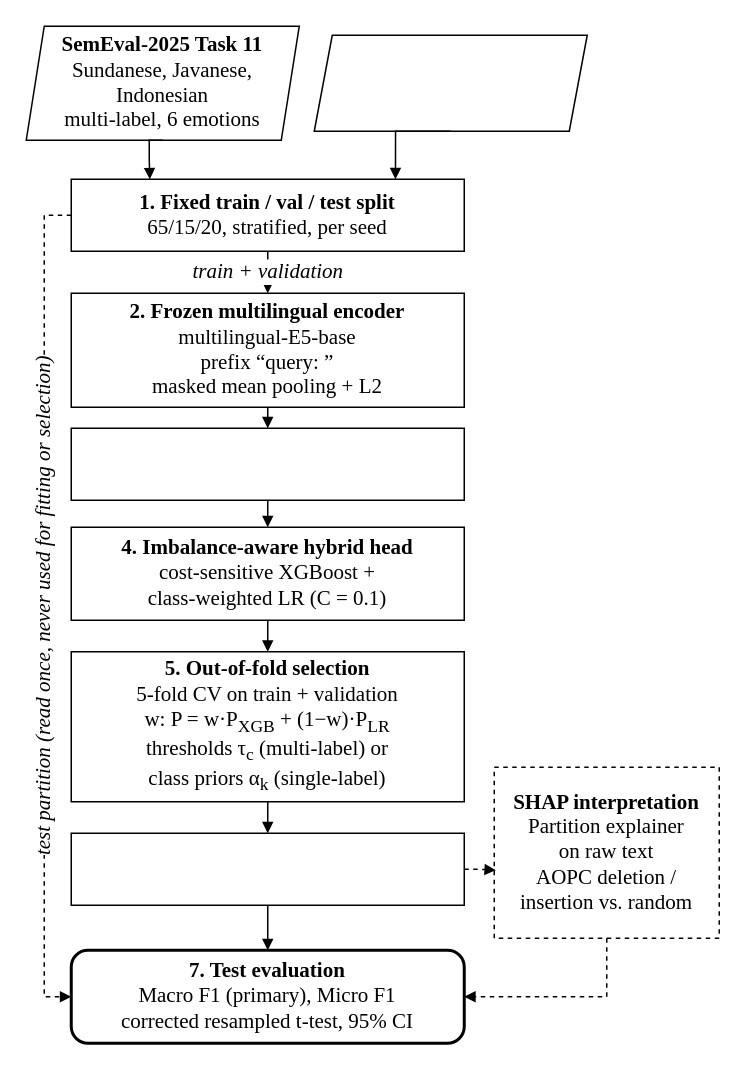
This 746x1071 diagram has some shape labels left out. The shapes that lost their labels are listed below. From the top down, each one's centre as x and y in pixels, then its label:
point (450, 82): Tokopedia (PRDECT-ID) Indonesian reviews single-label, 5 emotions
point (267, 463): 3. StandardScaler + PCA (95%) fitted on fitting data only
point (267, 868): 6. Final fit on train + val. with selected w and τ c / α k
